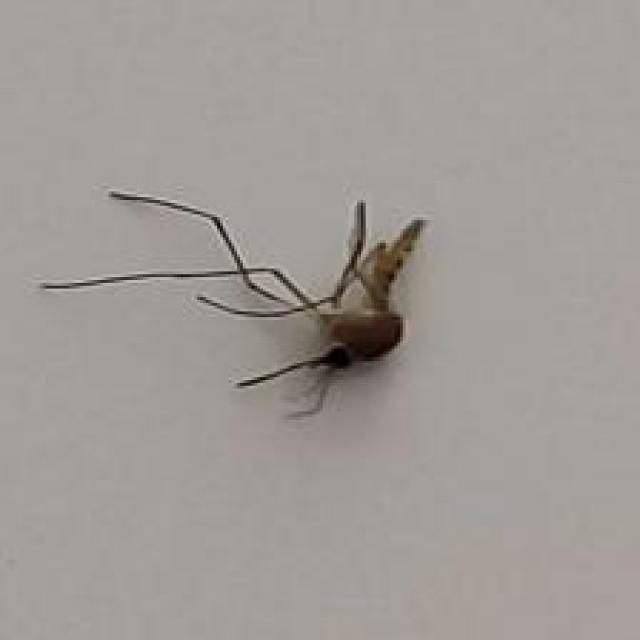Culex: (39, 186, 430, 420)
